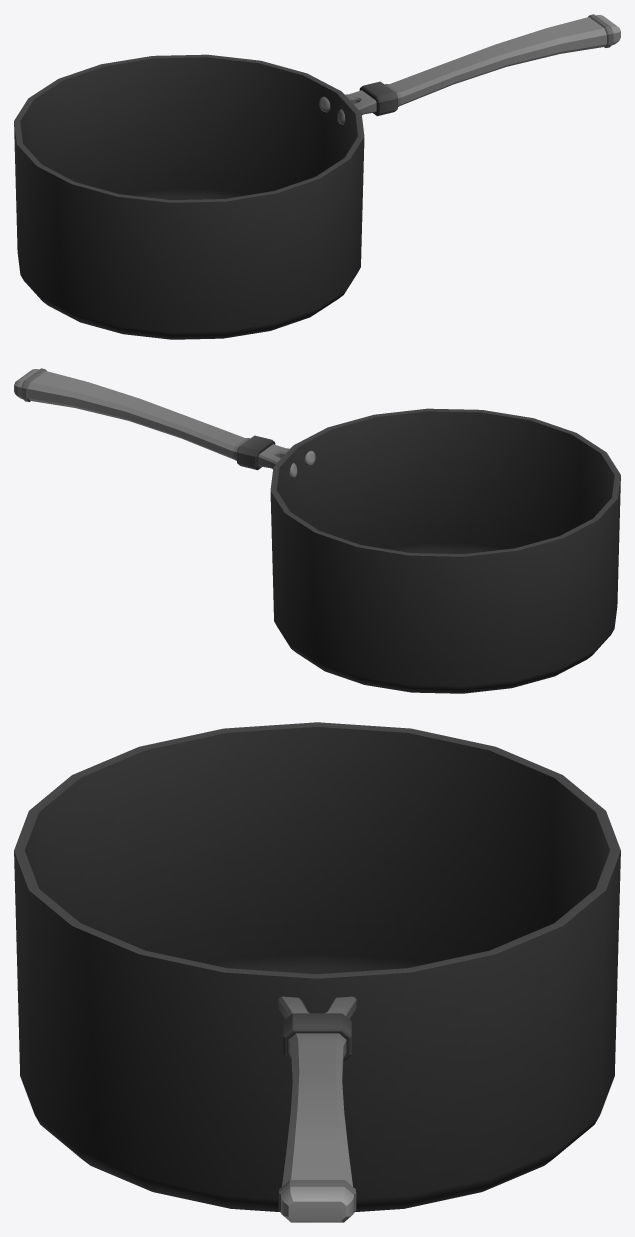
Rendered from pan_02.fbx.
3 views of the same model, one above another, from view 1: azimuth 30°, elevation 25°; view 2: azimuth 150°, elevation 25°; view 3: azimuth 270°, elevation 25° (orthographic). The views are drawn at different scales.
Visible parts, largest first — view 1: pan_2; view 2: pan_2; view 3: pan_2.
Boxes of the visible parts, <box> form: pan_2: <box>14,14,620,339</box>; pan_2: <box>14,368,620,693</box>; pan_2: <box>14,722,620,1222</box>.
Bounding box in the file's own units: 0.6974 × 0.1803 × 0.3696.
